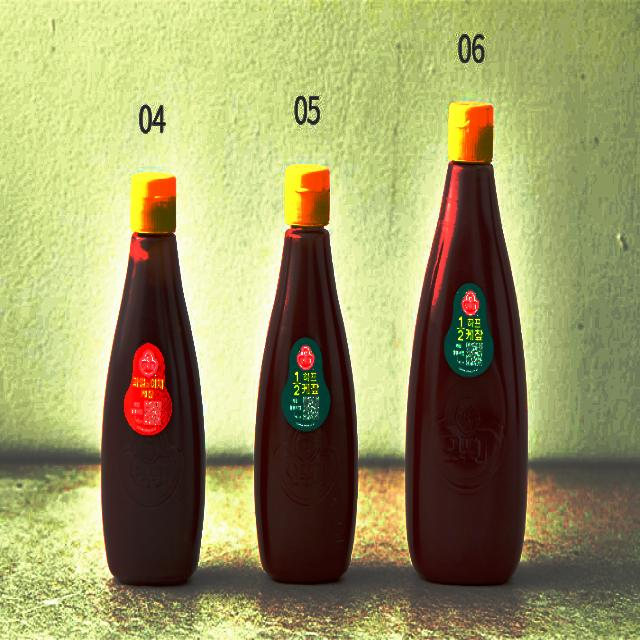ketchup: (404, 99, 529, 592), (254, 161, 362, 584), (99, 173, 207, 585)
